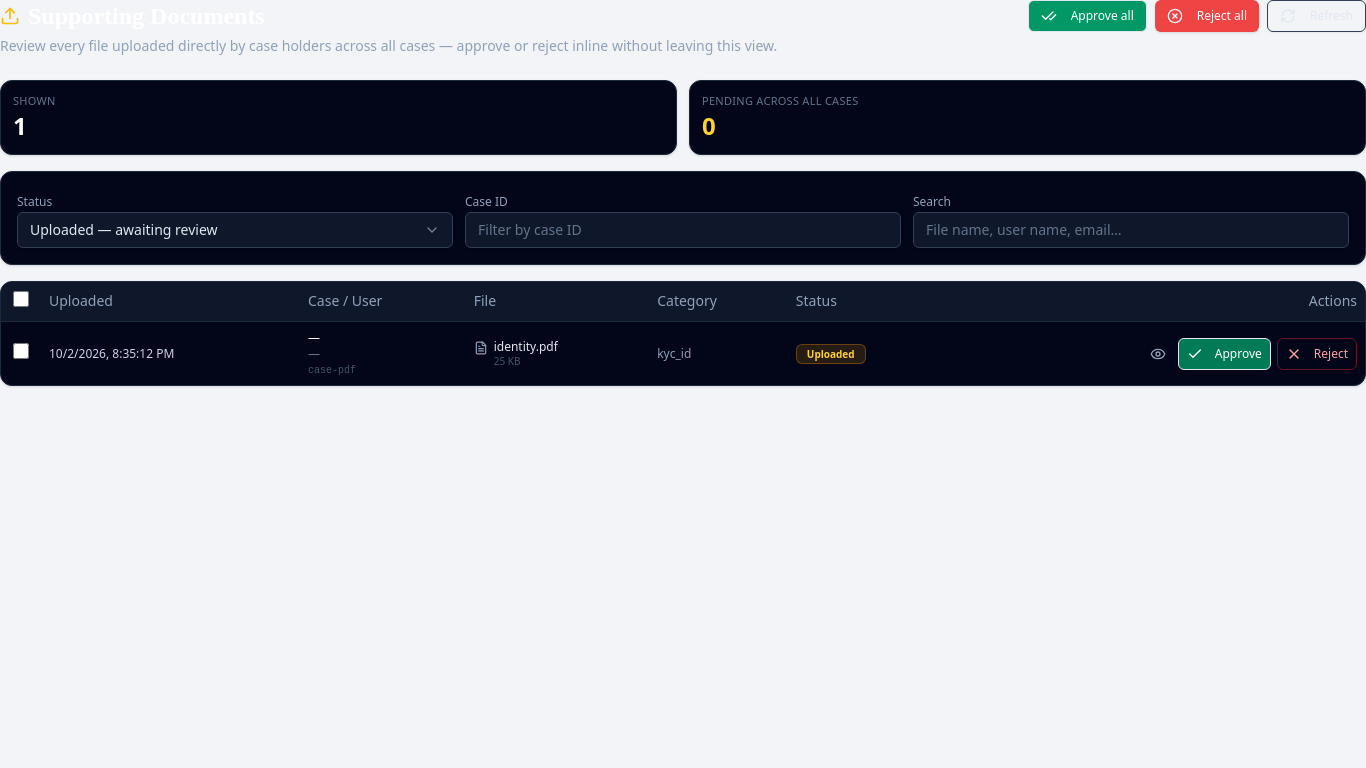
Test: SupportingDocumentsTab – preview button (Task #562) › shows the null-fileData fallback and renders no iframe or img
Expected: the text "identity.pdf" is shown, [494,339,558,355]
Click the button named "Preview file": (1158, 354) [1144,338,1172,370]
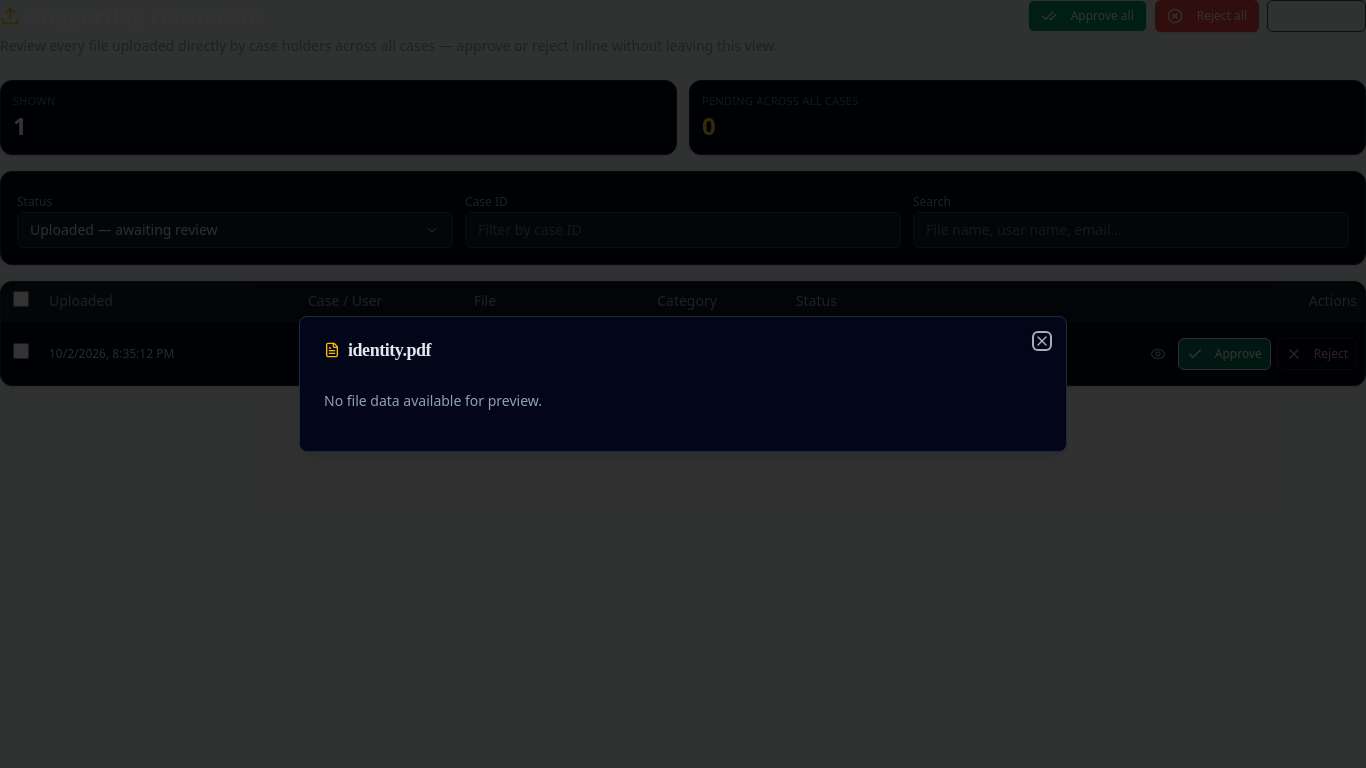
Expected: the text "No file data available for preview." is shown, [324,391,542,410]
